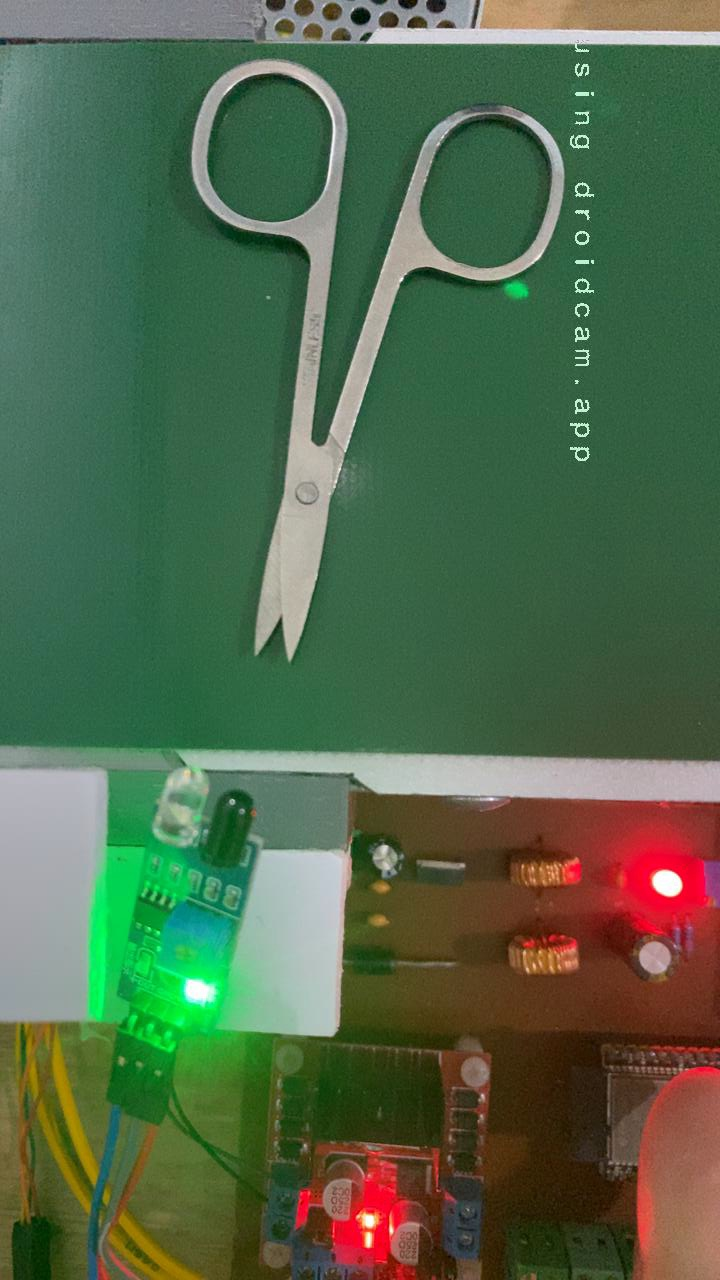scissor: (185, 52, 573, 665)
